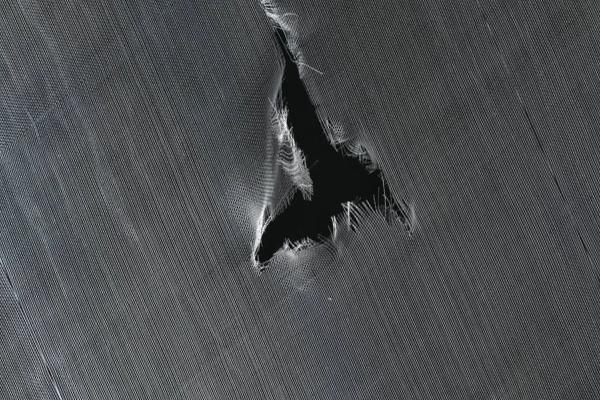hole: (250, 0, 422, 271)
